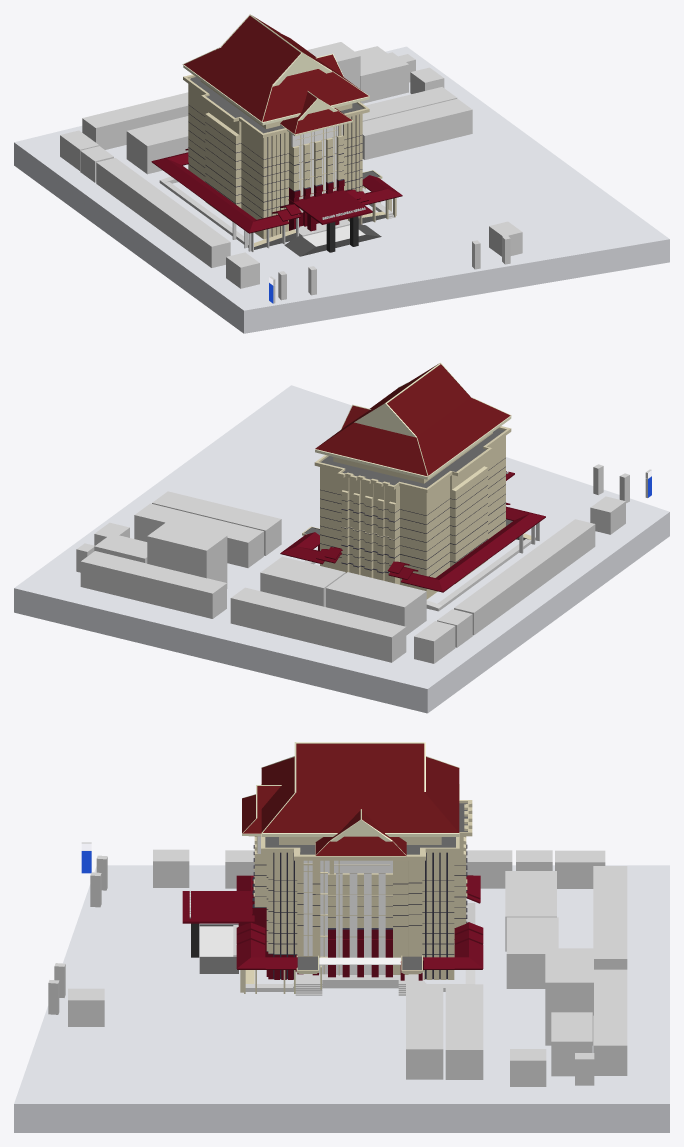
Rendered from gkn.glb.
The picture shows the model from 3 angles, top to bottom: view 1: azimuth 30°, elevation 25°; view 2: azimuth 150°, elevation 25°; view 3: azimuth 270°, elevation 25°; orthographic projection. The views are drawn at different scales.
Visible parts, largest first — view 1: Plane, Cube, Cube.009, Cube.051, Cube.055, Cube.049, Cube.004, Cube.032, kantin, Cube.023, Cube.010, Cube.054 (+12 smaller); view 2: Plane, Cube, Cube.009, Cube.049, Cube.053, Cube.051, Cube.004, gedung arsip, Cube.054, Cube.003, Cube.055, Cube.032 (+7 smaller); view 3: Plane, Cube, Cube.009, Cube.054, Cube.053, Cube.055, Cube.049, gedung arsip, Cube.003, Cube.004, Cube.011, Cube.051 (+15 smaller).
Part boxes in pixels (x1,y1,x2,y2): Plane: [14, 46, 669, 333]; Cube: [183, 74, 369, 239]; Cube.009: [182, 14, 369, 125]; Cube.051: [96, 158, 230, 267]; Cube.055: [362, 98, 472, 159]; Cube.049: [82, 92, 188, 149]; Cube.004: [126, 116, 188, 174]; Cube.032: [175, 171, 301, 233]; kantin: [360, 52, 408, 103]; Cube.023: [288, 190, 372, 224]; Cube.010: [280, 91, 352, 136]; Cube.054: [362, 87, 457, 121]; Plane: [14, 385, 669, 713]; Cube: [314, 426, 511, 599]; Cube.009: [315, 362, 511, 479]; Cube.049: [230, 587, 406, 662]; Cube.053: [80, 551, 226, 618]; Cube.051: [454, 519, 595, 635]; Cube.004: [326, 572, 426, 635]; gedung arsip: [147, 521, 227, 588]; Cube.054: [134, 503, 263, 567]; Cube.003: [260, 556, 345, 606]; Cube.055: [152, 491, 281, 555]; Cube.032: [448, 502, 545, 574]; Plane: [14, 865, 669, 1132]; Cube: [249, 784, 472, 979]; Cube.009: [261, 742, 459, 836]; Cube.054: [445, 984, 483, 1079]; Cube.053: [593, 969, 627, 1075]; Cube.055: [406, 984, 443, 1079]; Cube.049: [593, 866, 627, 969]; gedung arsip: [545, 948, 593, 1045]; Cube.003: [506, 917, 558, 988]; Cube.004: [505, 871, 556, 951]; Cube.011: [315, 809, 406, 856]; Cube.051: [225, 850, 512, 888].
Size of the model in its own units: 31.23 by 14.39 by 36.26.
